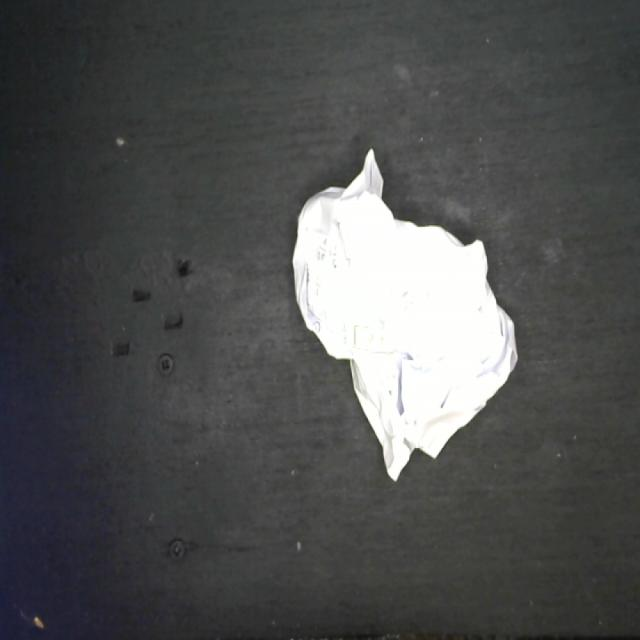biodegradable: (288, 145, 518, 486)
